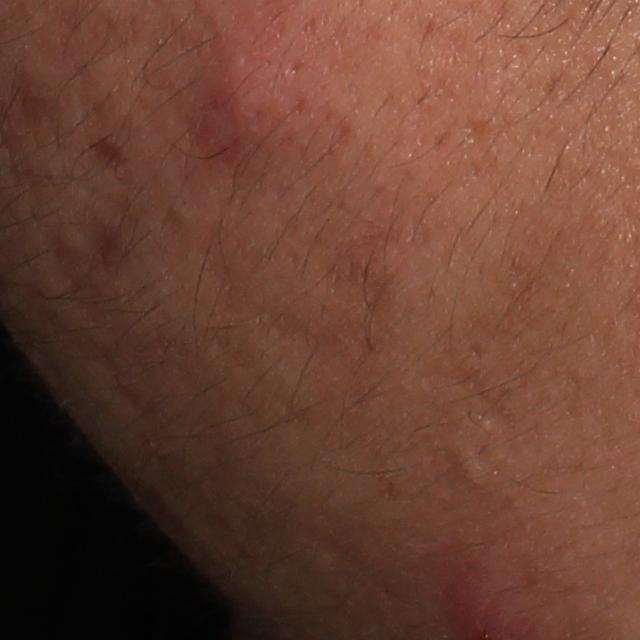comedo: (450, 441, 493, 491)
